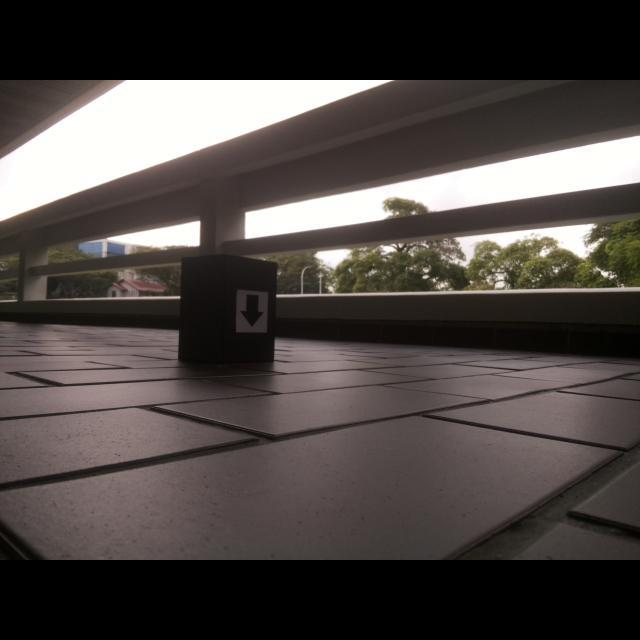DOWN: (239, 294, 265, 328)
